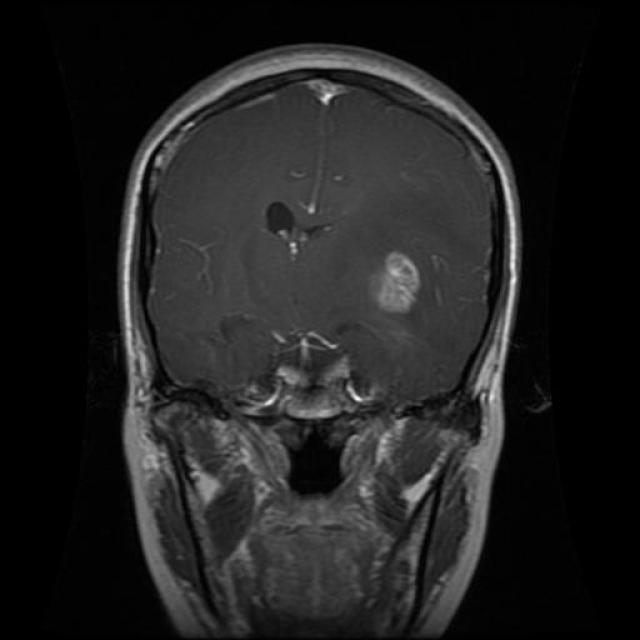glioma: (371, 251, 420, 311), (262, 198, 308, 258)
